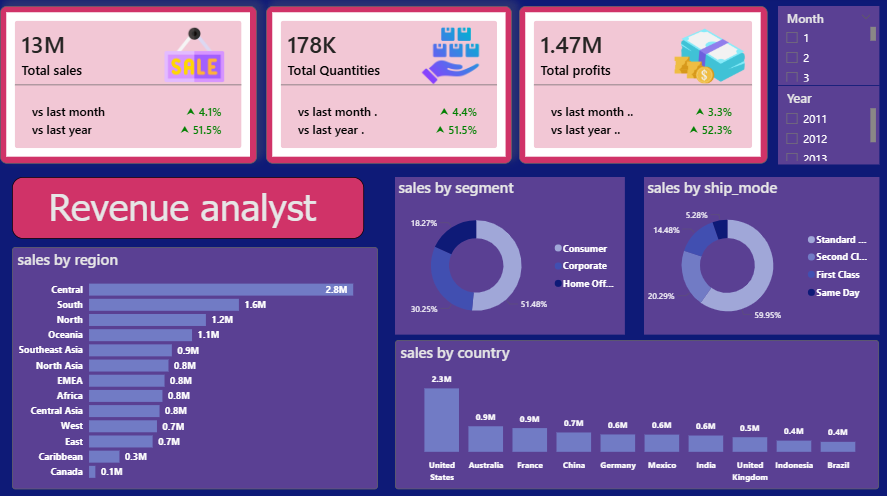

The page's visual inventory and layout, read from the dashboard file:
{"tool":"powerbi","page":{"name":"Page 1","canvas":[1280,720],"ordinal":0},"visuals":[{"type":"cardVisual","fields":{"Data":["SuperStoreOrders.Total  sales"]},"box":[0,13.4,369.6,226.8],"z":0},{"type":"cardVisual","fields":{"Data":["SuperStoreOrders.Total  Quantities"]},"box":[383,13.4,354.4,226.8],"z":1000},{"type":"cardVisual","fields":{"Data":["SuperStoreOrders.Total profits"]},"box":[747.5,13.4,357.8,226.8],"z":2000},{"type":"clusteredColumnChart","title":" sales by country","fields":{"Category":["SuperStoreOrders.country"],"Y":["Sum(SuperStoreOrders.sales)"]},"box":[569.4,493.9,697.1,215],"z":3000},{"type":"donutChart","title":" sales by segment","fields":{"Category":["SuperStoreOrders.segment"],"Y":["Sum(SuperStoreOrders.sales)"]},"box":[569.4,258.7,330.9,226.8],"z":4000},{"type":"donutChart","title":" sales by ship_mode","fields":{"Y":["Sum(SuperStoreOrders.sales)"],"Category":["SuperStoreOrders.ship_mode"]},"box":[927.2,258.7,339.3,226.8],"z":5000},{"type":"clusteredBarChart","title":"sales by region","fields":{"Category":["SuperStoreOrders.region"],"Y":["Sum(SuperStoreOrders.sales)"]},"box":[16.8,359.5,527.5,349.4],"z":6000},{"type":"textbox","box":[16.8,258.7,507.3,89],"z":7000},{"type":"slicer","fields":{"Values":["Date table.Month"]},"box":[1120.4,13.4,146.1,114.2],"z":8000},{"type":"slicer","fields":{"Values":["Date table.Year"]},"box":[1120.4,127.7,146.1,112.5],"z":9000},{"type":"image","box":[218.9,40.3,122.4,86.4],"z":10000},{"type":"image","box":[587.5,41.8,122.4,86.4],"z":11000},{"type":"image","box":[960.5,27.4,122.4,115.2],"z":12000}]}

Visuals, with their boxes in screenshot pixels (x1, y1, x2, y2), scaled from the page's 1280x720 canvas onto the 887x496 screenshot:
cardVisual - SuperStoreOrders.Total  sales: Rect(0, 9, 256, 165)
cardVisual - SuperStoreOrders.Total  Quantities: Rect(265, 9, 511, 165)
cardVisual - SuperStoreOrders.Total profits: Rect(518, 9, 766, 165)
" sales by country" clusteredColumnChart: Rect(395, 340, 878, 488)
" sales by segment" donutChart: Rect(395, 178, 624, 334)
" sales by ship_mode" donutChart: Rect(643, 178, 878, 334)
"sales by region" clusteredBarChart: Rect(12, 248, 377, 488)
textbox: Rect(12, 178, 363, 240)
slicer - Date table.Month: Rect(776, 9, 878, 88)
slicer - Date table.Year: Rect(776, 88, 878, 165)
image: Rect(152, 28, 237, 87)
image: Rect(407, 29, 492, 88)
image: Rect(666, 19, 750, 98)
